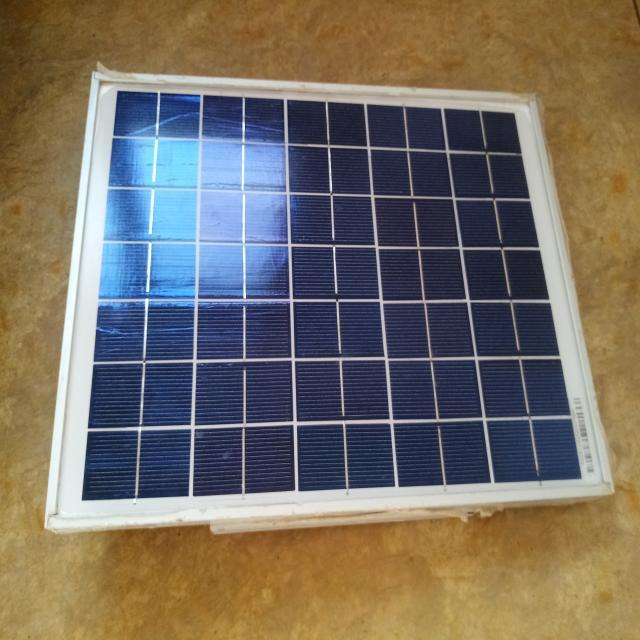no faulty: (52, 78, 611, 521)
